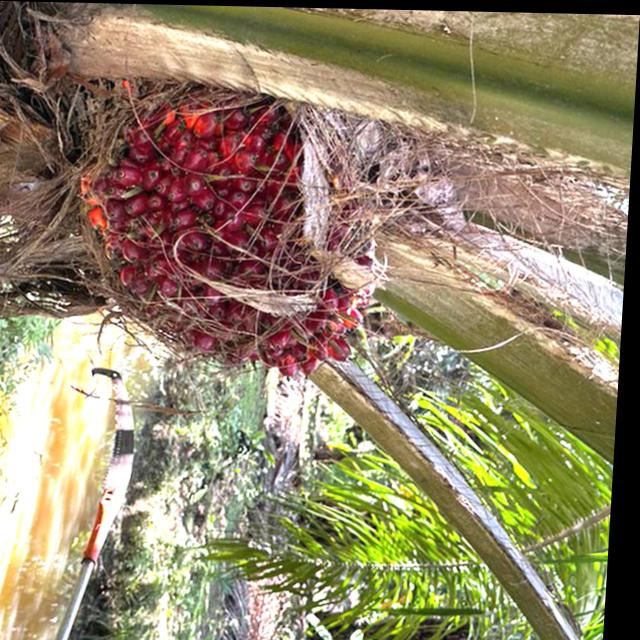ripe: (80, 81, 395, 376)
